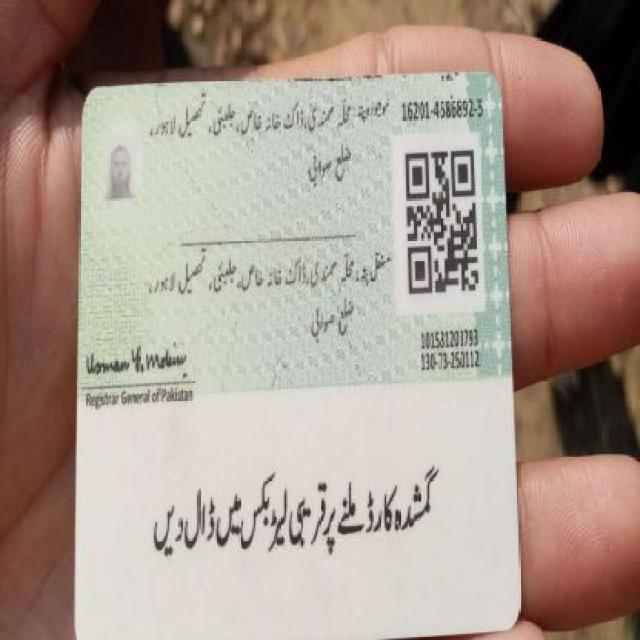Back: (71, 71, 523, 631)
